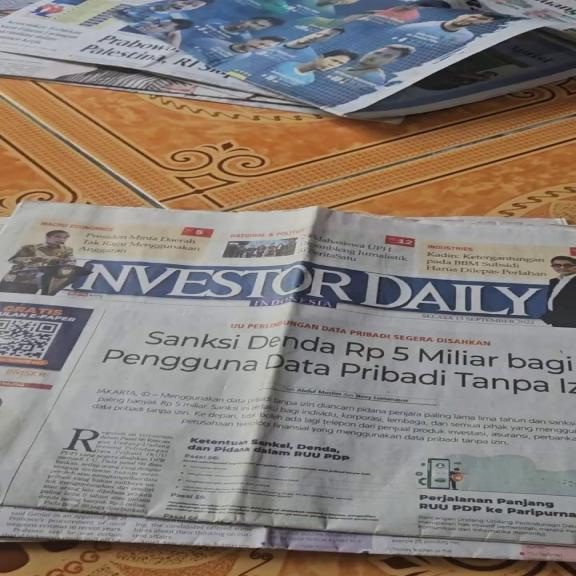Kertas: (3, 207, 568, 557)
